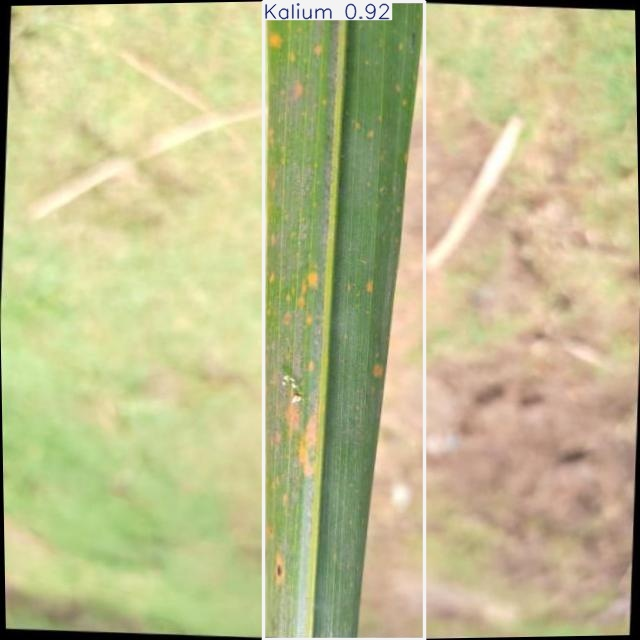Kalium: (264, 2, 425, 639)
